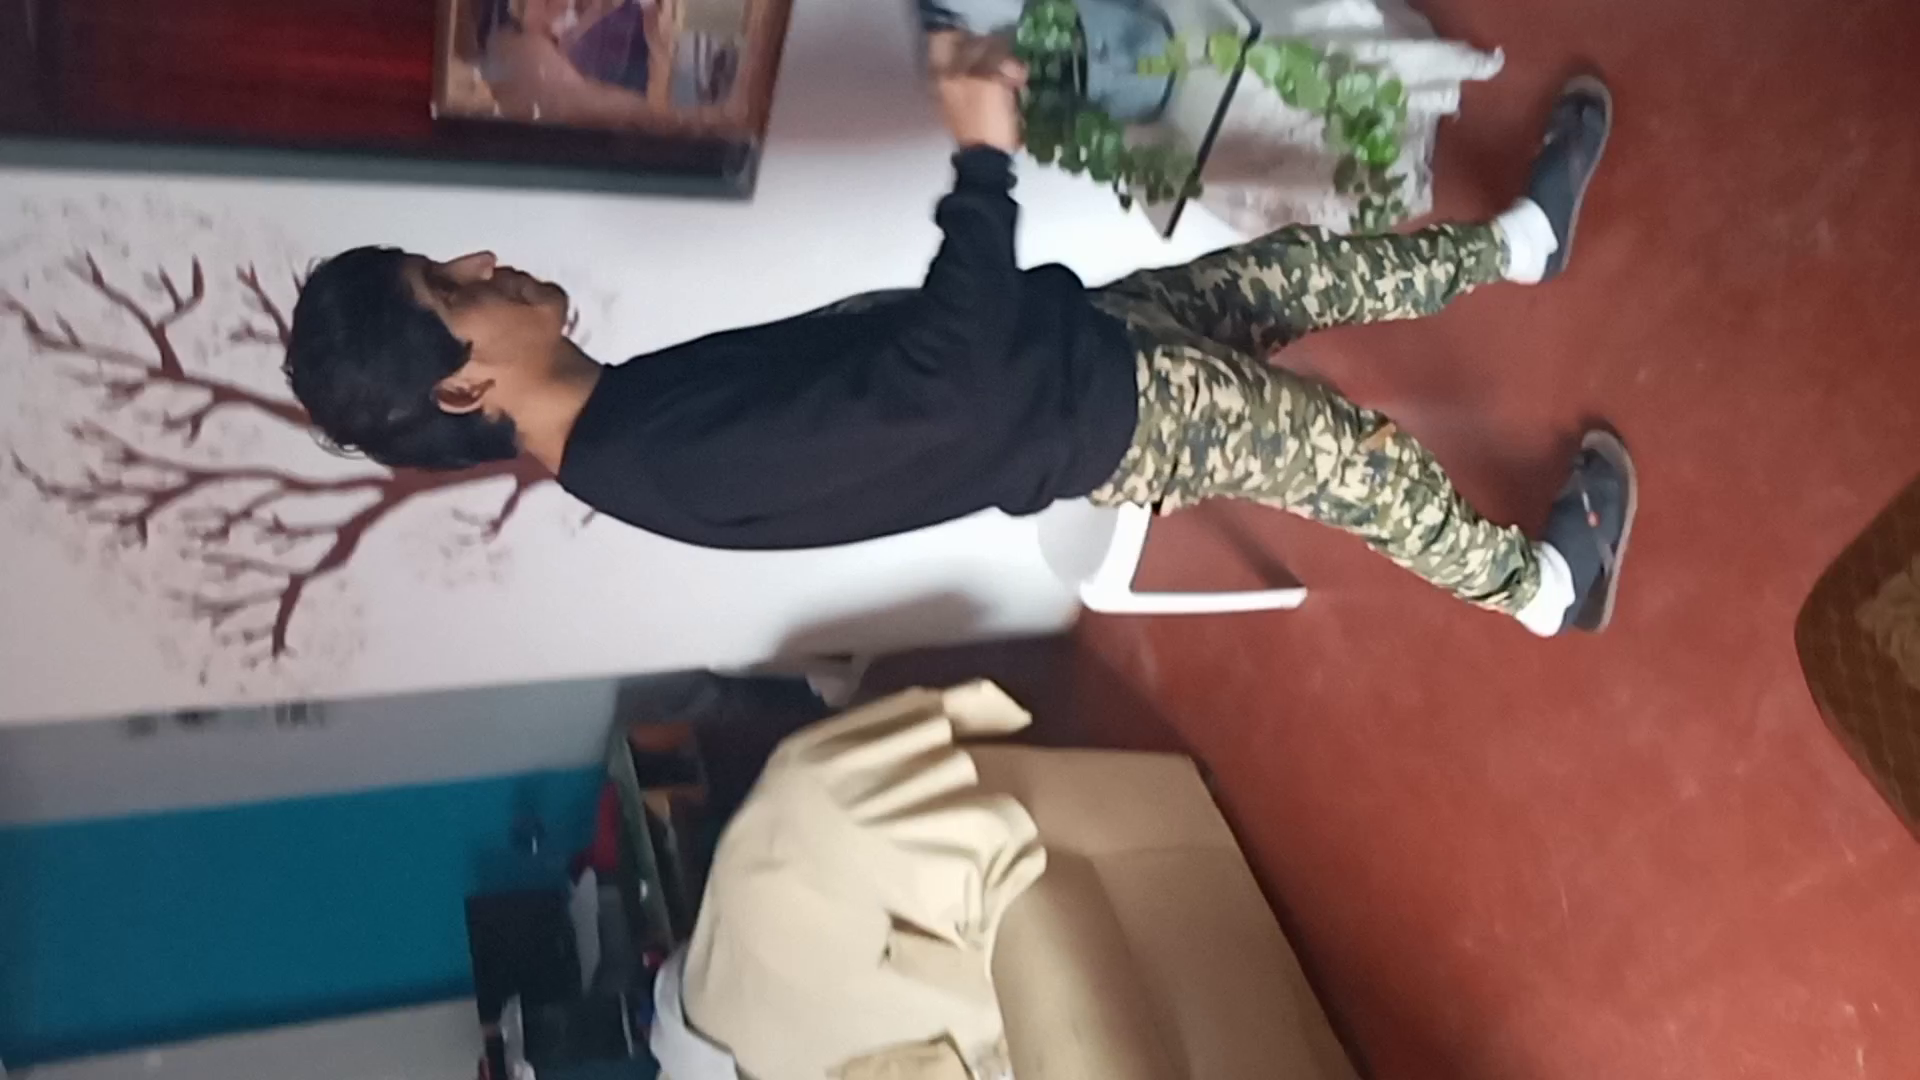pistol: (918, 1, 961, 57)
